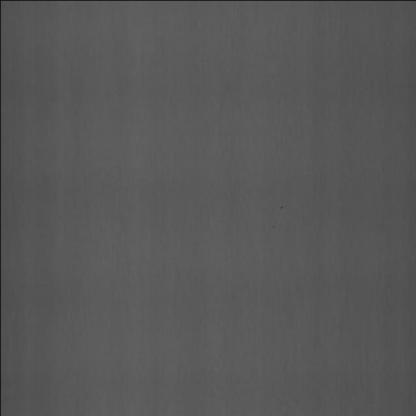inclusion: (272, 198, 285, 230)
